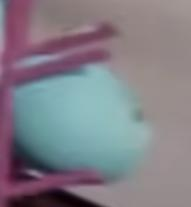algae: (12, 55, 149, 183)
